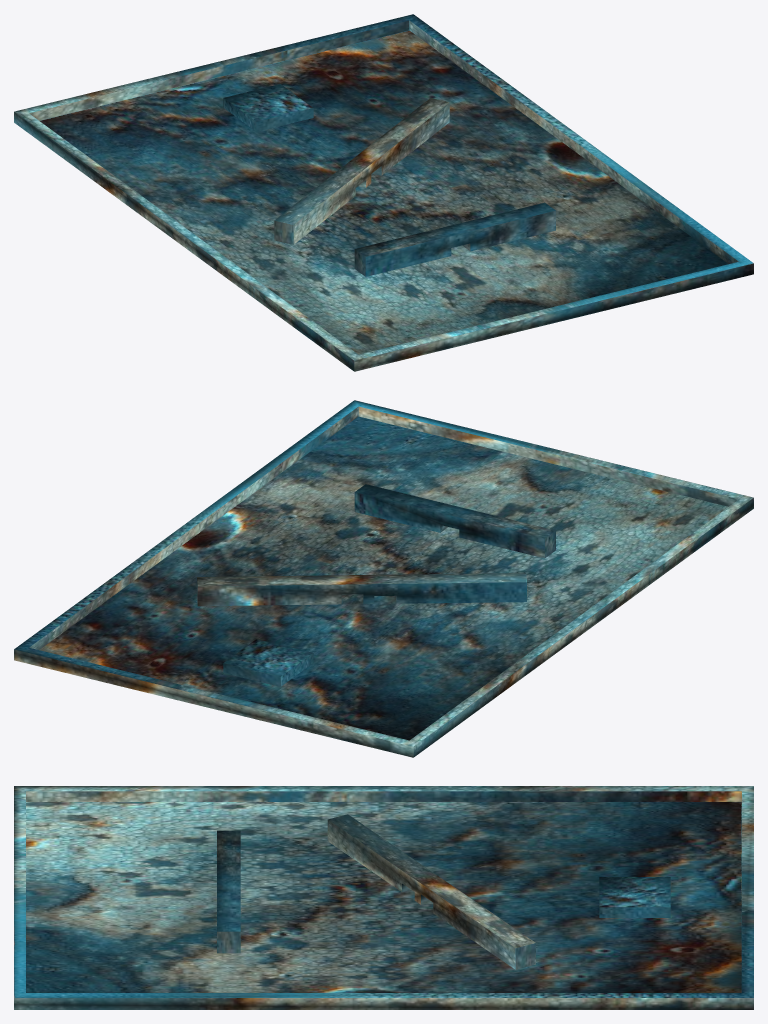
Rendered from Scenario_4b.dae.
3 views of the same model, one above another, from view 1: azimuth 30°, elevation 25°; view 2: azimuth 150°, elevation 25°; view 3: azimuth 270°, elevation 25° (orthographic). The views are drawn at different scales.
Parts seen in each view (by area): view 1: Scenario_4b; view 2: Scenario_4b; view 3: Scenario_4b.
Part boxes in pixels (<box>): Scenario_4b: <box>14,14,753,371</box>; Scenario_4b: <box>14,400,753,757</box>; Scenario_4b: <box>14,786,753,1009</box>.
Bounding box in the file's own units: 21 × 31 × 1.05.
1 material, 1 textured.
